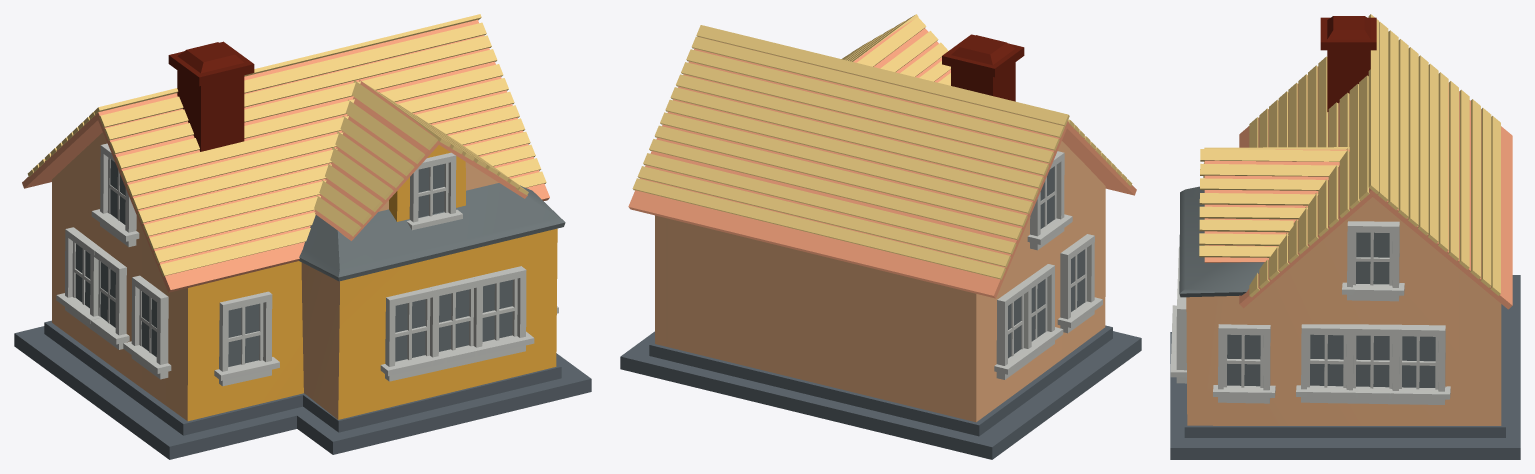
File: home-1.glb
3 renders of one model, left to right at view 1: azimuth 30°, elevation 25°; view 2: azimuth 150°, elevation 25°; view 3: azimuth 270°, elevation 25°, orthographic. The views are drawn at different scales.
Parts seen in each view (by area): view 1: Object_2; view 2: Object_2; view 3: Object_2.
Boxes of the visible parts, x1,y1,x2,y2 form: Object_2: (14, 14, 591, 459); Object_2: (620, 14, 1141, 459); Object_2: (1170, 14, 1520, 459).
Size of the model in its own units: 1.37 by 1.15 by 1.17.
Materials: 1 (1 with a texture image).
